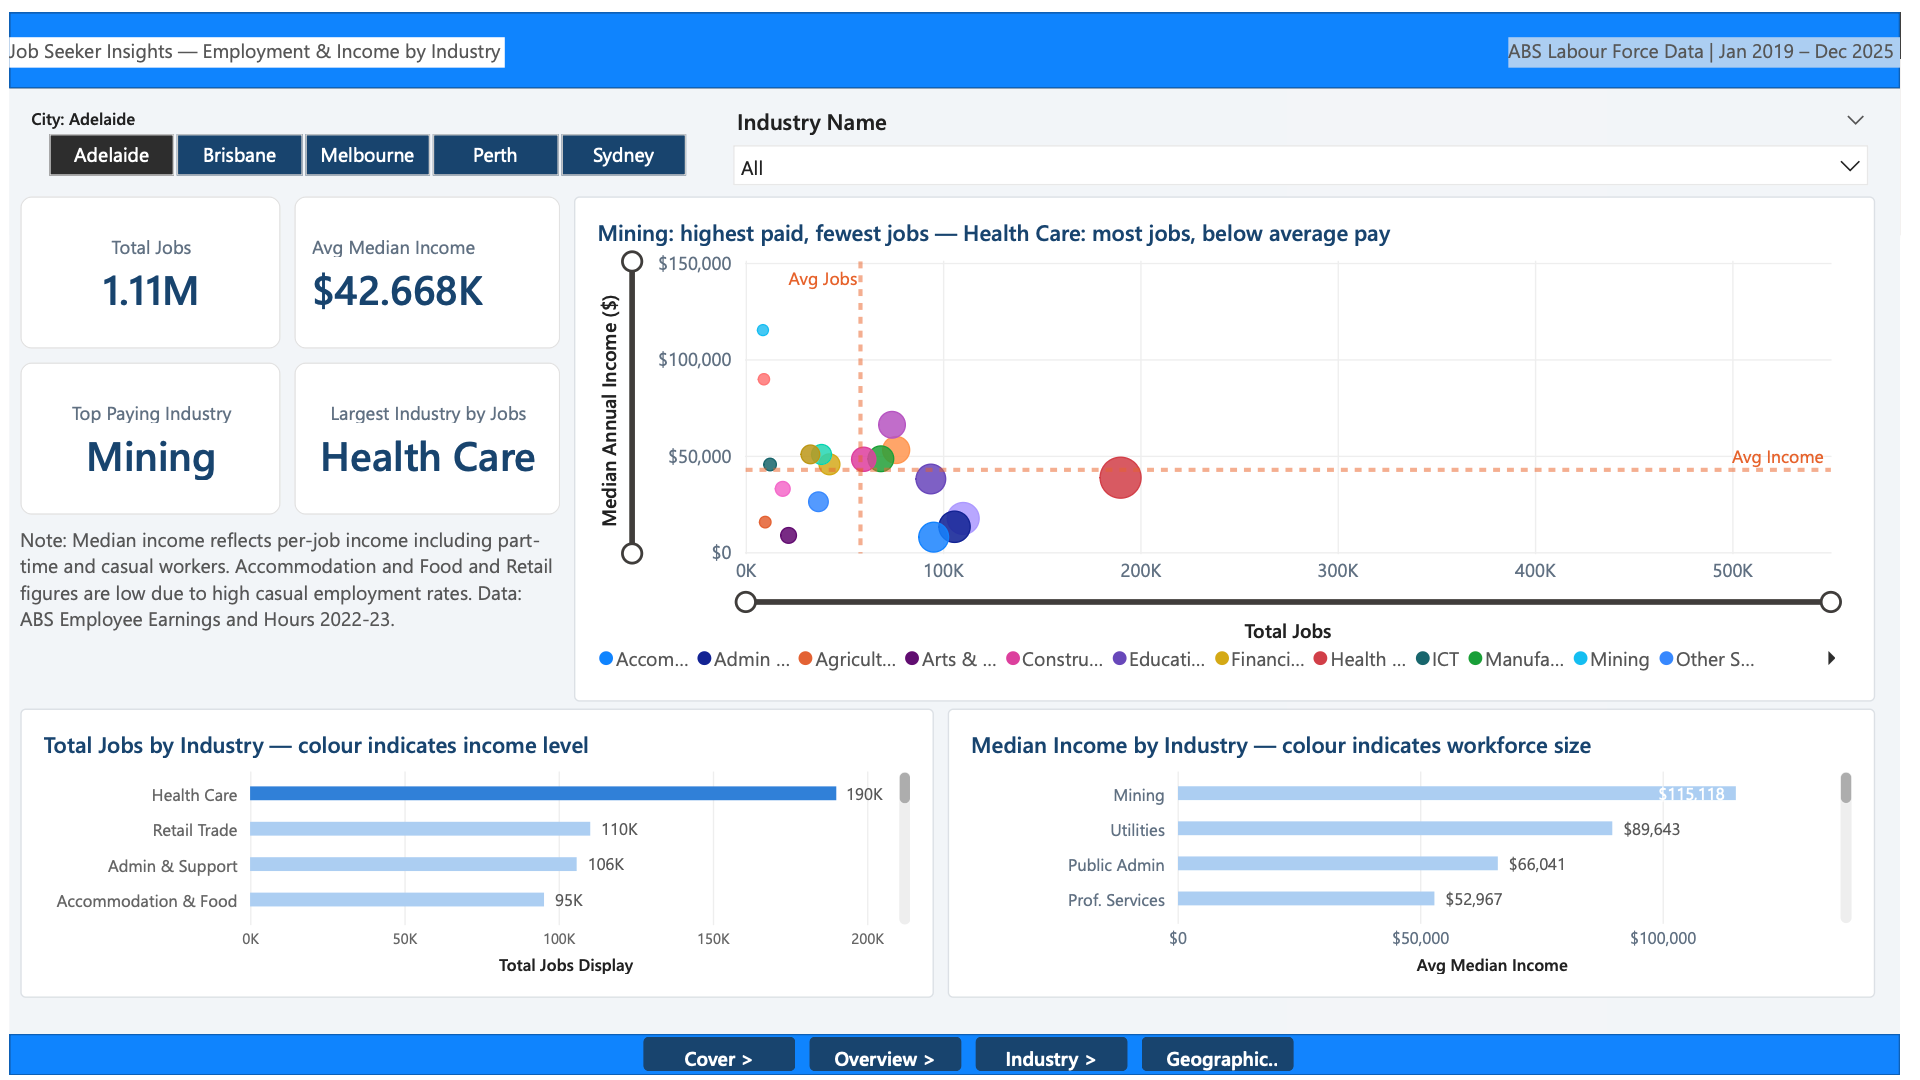

The page's visual inventory and layout, read from the dashboard file:
{"tool":"powerbi","page":{"name":"Job Seeker Insights","canvas":[1366,768],"ordinal":4},"visuals":[{"type":"shape","box":[0,0,1366,55],"z":0},{"type":"textbox","box":[0,18,358,22],"z":1000},{"type":"textbox","box":[1083.3,18.2,282.7,21.8],"z":2000},{"type":"shape","box":[0,738,1366,30],"z":3000},{"type":"slicer","fields":{"Values":["DimCity.City"]},"box":[8,68,500,55],"z":4000},{"type":"slicer","fields":{"Values":["Jobs Income.Industry Name"]},"box":[518,68,830,64],"z":5000},{"type":"cardVisual","fields":{"Data":["_Measures.Total Jobs Display"]},"box":[8,133,188,110],"z":6000},{"type":"cardVisual","fields":{"Data":["_Measures.Avg Median Income Test"]},"box":[206,133,192,110],"z":7000},{"type":"cardVisual","fields":{"Data":["_Measures.Top Paying Industry"]},"box":[8,253,188,110],"z":8000},{"type":"cardVisual","fields":{"Data":["_Measures.Largest Industry by Jobs"]},"box":[206,253,192,110],"z":9000},{"type":"scatterChart","title":"Mining: highest paid, fewest jobs — Health Care: most jobs, below average pay","fields":{"Series":["Jobs Income.Industry Display Name"],"Size":["_Measures.Total Jobs Display"],"X":["_Measures.Total Jobs Display"],"Y":["_Measures.Avg Median Income Test"]},"box":[408,133,940,365],"z":10000},{"type":"clusteredBarChart","title":"Total Jobs by Industry — colour indicates income level","fields":{"Category":["Jobs Income.Industry Display Name"],"Y":["_Measures.Total Jobs Display"]},"box":[8,503,660,209],"z":11000},{"type":"clusteredBarChart","title":"Median Income by Industry — colour indicates workforce size","fields":{"Category":["Jobs Income.Industry Display Name"],"Y":["_Measures.Avg Median Income Test"]},"box":[678,503,670,209],"z":12000},{"type":"textbox","box":[8,371,390,127],"z":13000},{"type":"actionButton","box":[578,740,110,25],"z":16000},{"type":"actionButton","box":[818,740,110,25],"z":16500},{"type":"actionButton","box":[698,740,110,25],"z":17000},{"type":"actionButton","box":[458,740,110,25],"z":17501}]}

Visuals, with their boxes in screenshot pixels (x1, y1, x2, y2), scaled from the page's 1366x768 canvas onto the 1920x1080 screenshot:
shape: bbox=(0, 0, 1919, 77)
textbox: bbox=(0, 25, 503, 56)
textbox: bbox=(1523, 26, 1919, 56)
shape: bbox=(0, 1038, 1919, 1079)
slicer - DimCity.City: bbox=(11, 96, 714, 173)
slicer - Jobs Income.Industry Name: bbox=(728, 96, 1895, 186)
cardVisual - _Measures.Total Jobs Display: bbox=(11, 187, 275, 342)
cardVisual - _Measures.Avg Median Income Test: bbox=(290, 187, 559, 342)
cardVisual - _Measures.Top Paying Industry: bbox=(11, 356, 275, 510)
cardVisual - _Measures.Largest Industry by Jobs: bbox=(290, 356, 559, 510)
"Mining: highest paid, fewest jobs — Health Care: most jobs, below average pay" scatterChart: bbox=(573, 187, 1895, 700)
"Total Jobs by Industry — colour indicates income level" clusteredBarChart: bbox=(11, 707, 939, 1001)
"Median Income by Industry — colour indicates workforce size" clusteredBarChart: bbox=(953, 707, 1895, 1001)
textbox: bbox=(11, 522, 559, 700)
actionButton: bbox=(812, 1041, 967, 1076)
actionButton: bbox=(1150, 1041, 1304, 1076)
actionButton: bbox=(981, 1041, 1136, 1076)
actionButton: bbox=(644, 1041, 798, 1076)
